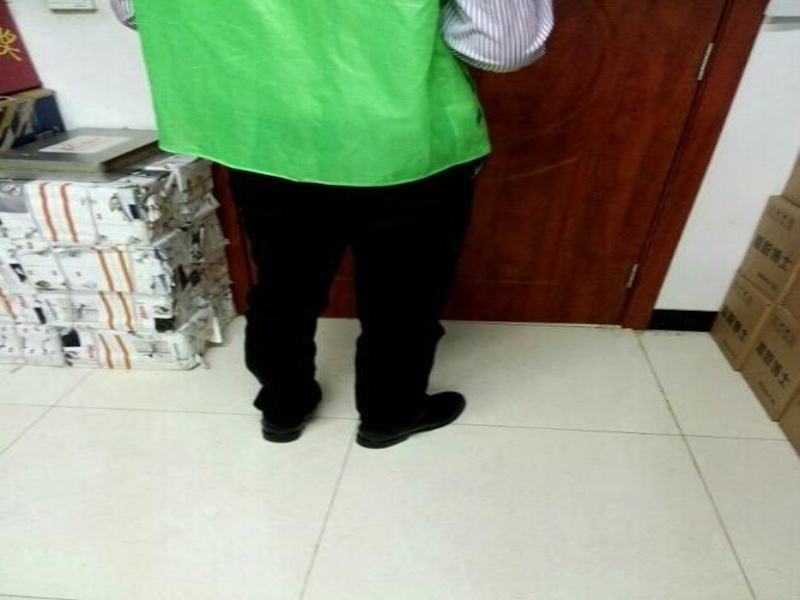long_sleeved_shirt: (101, 1, 562, 192)
trousers: (207, 113, 480, 434)
